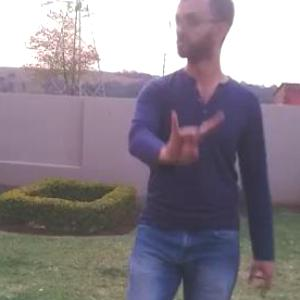takeoff-hand: (161, 102, 231, 175)
